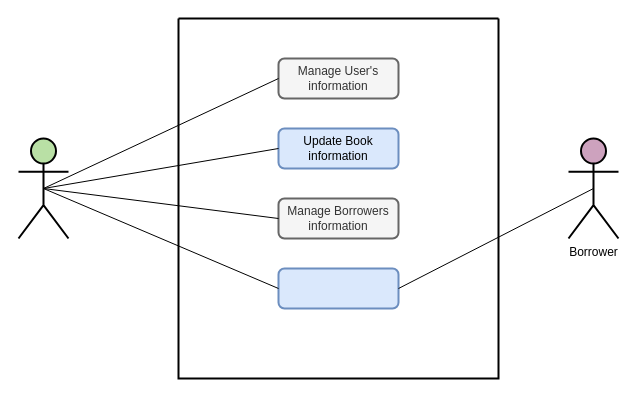
The diagram is 636 pixels wide and 396 high, and some of its shapes have lost their labels. The shapes that lost their labels are listed below. From the top down, each one's box as (x1, y1, x2, y2) in pixels, then its label:
(17, 137, 69, 239): Librarian
(277, 267, 399, 309): Records of Borrower's
